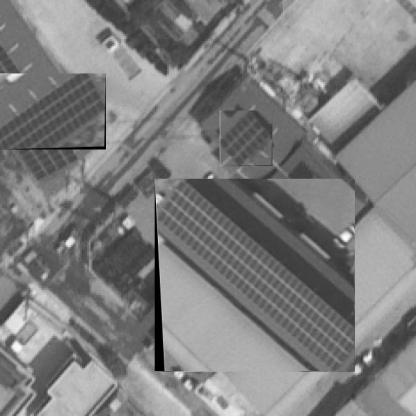solar-pv-panel: (157, 179, 354, 371), (0, 73, 105, 149), (220, 111, 272, 166)
